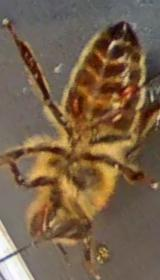varroa_mite: (109, 74, 146, 114), (59, 91, 87, 120)
